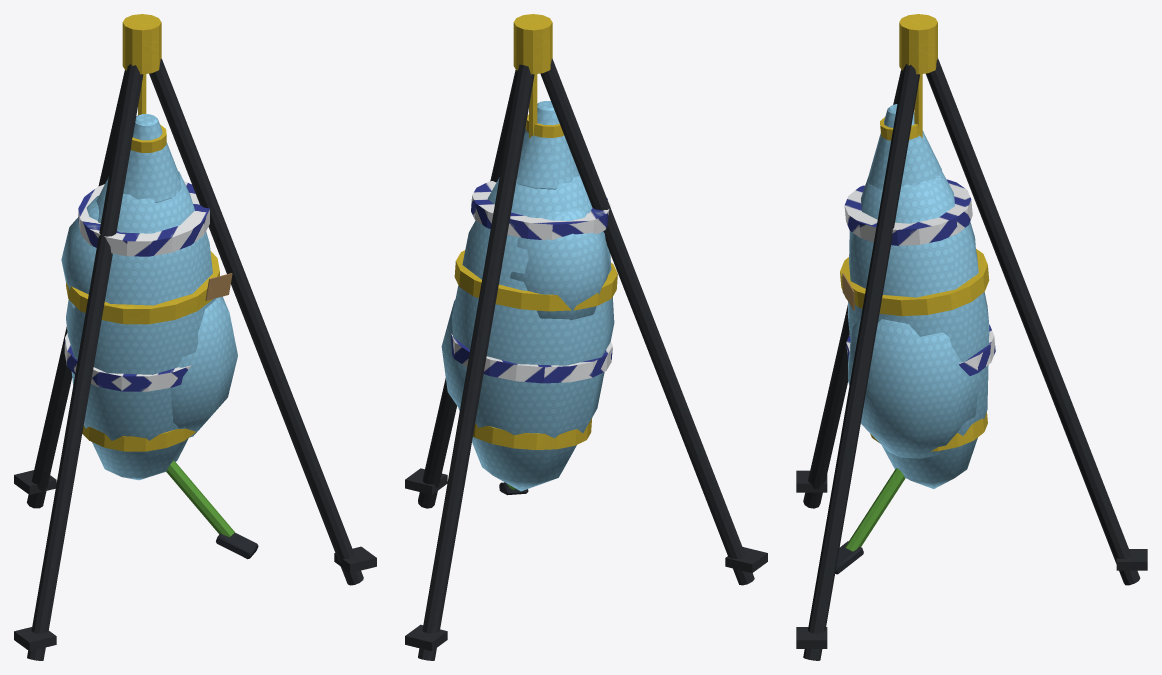
Rendered from spooler_cocoon.glb.
The picture shows the model from 3 angles, left to right: view 1: azimuth 30°, elevation 25°; view 2: azimuth 150°, elevation 25°; view 3: azimuth 270°, elevation 25°; orthographic projection.
Parts seen in each view (by area): view 1: spooler_cocoon; view 2: spooler_cocoon; view 3: spooler_cocoon.
Boxes of the visible parts, x1,y1,x2,y2 form: spooler_cocoon: (14,14,376,660); spooler_cocoon: (405,14,767,660); spooler_cocoon: (796,14,1147,660).
Bounding box in the file's own units: 2.07 × 3.19 × 1.81.
7 materials, 7 textured.
